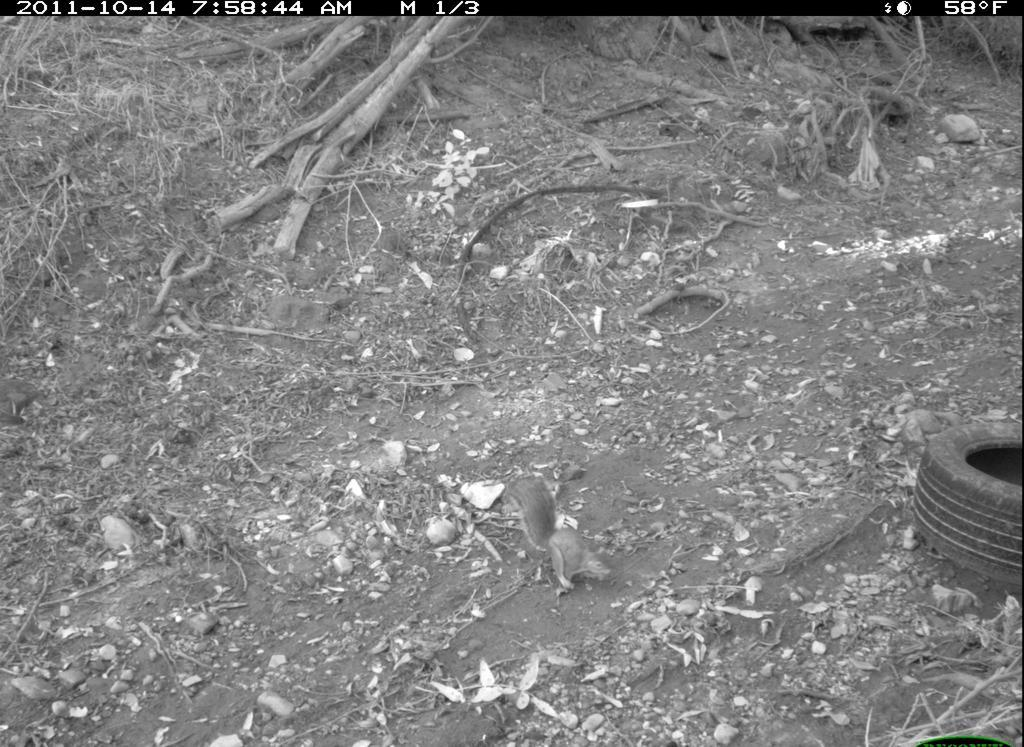squirrel: (495, 463, 624, 598)
